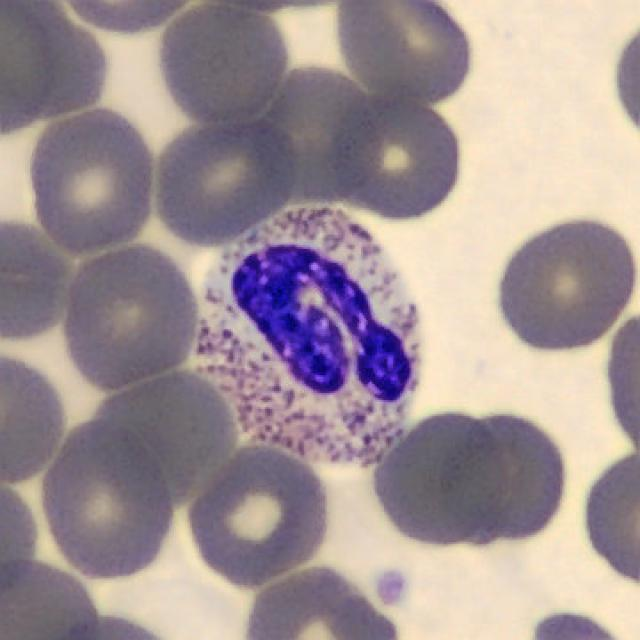Bastonete: (197, 204, 416, 466)
